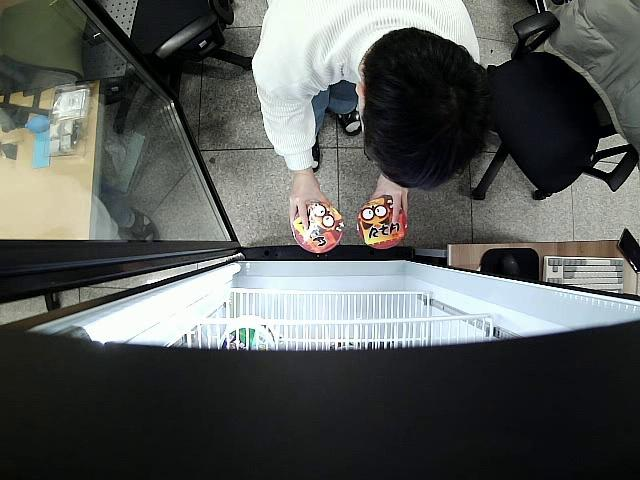00_hand: (287, 173, 334, 229), (370, 173, 409, 226)
05_nuguri_L: (357, 197, 409, 252), (293, 199, 343, 255)
